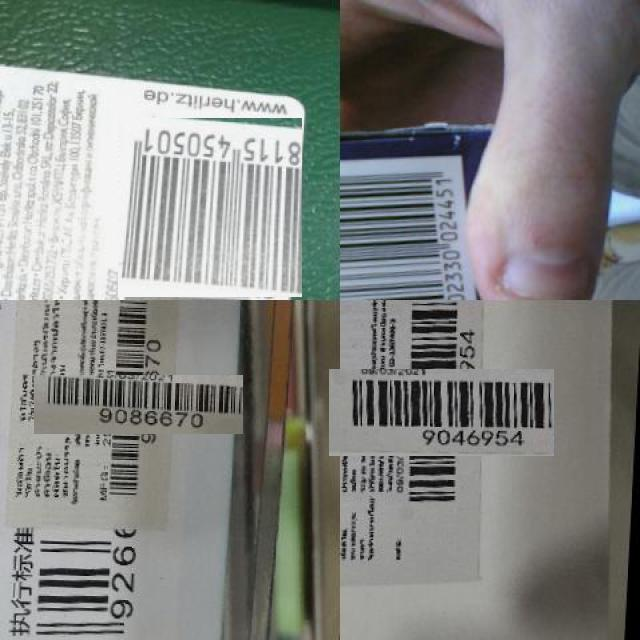Barcode: (120, 116, 301, 299), (363, 334, 520, 491), (340, 148, 484, 300), (71, 337, 205, 472)
